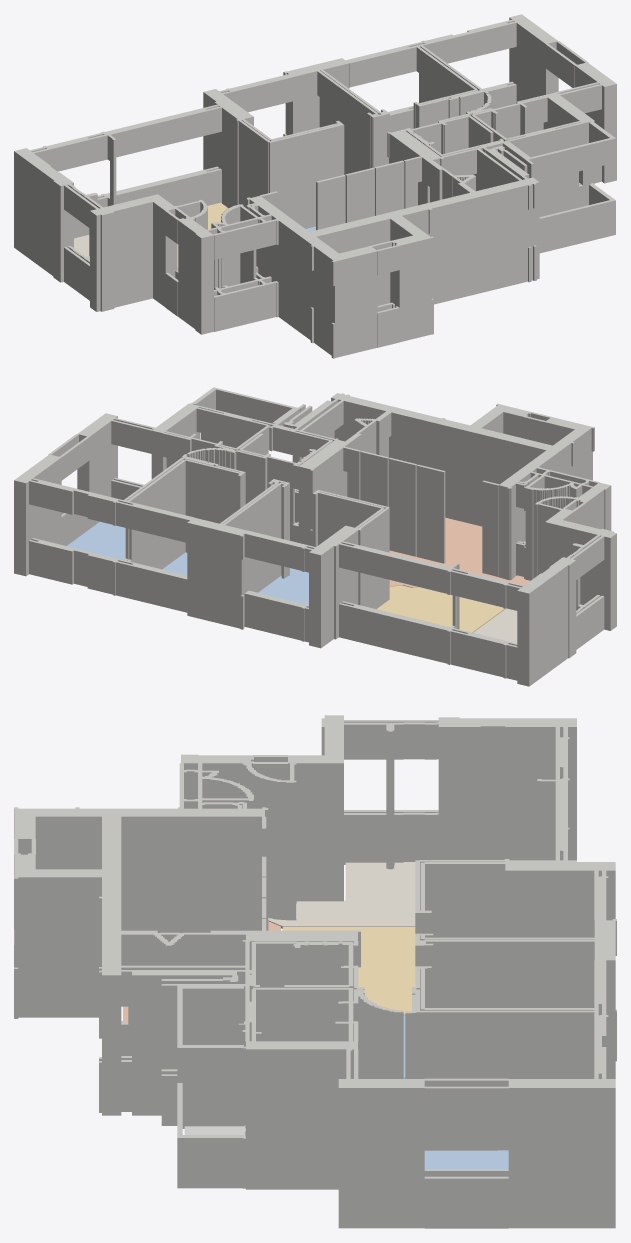
The picture shows the model from 3 angles, top to bottom: view 1: azimuth 30°, elevation 25°; view 2: azimuth 150°, elevation 25°; view 3: azimuth 270°, elevation 25°; orthographic projection. The views are drawn at different scales.
Parts seen in each view (by area): view 1: walls; view 2: walls, room:living:2, room:kitchen:9, room:bedroom:4, room:bedroom:1, room:other:0; view 3: walls, room:other:0, room:living:2, room:bedroom:4.
Boxes of the visible parts, x1,y1,x2,y2 form: walls: (14, 14, 616, 358); walls: (14, 387, 616, 686); room:living:2: (377, 585, 505, 632); room:kitchen:9: (389, 517, 530, 587); room:bedroom:4: (67, 521, 125, 559); room:bedroom:1: (258, 568, 308, 604); room:other:0: (473, 608, 517, 643); walls: (14, 715, 616, 1228); room:other:0: (268, 862, 415, 928); room:living:2: (282, 927, 415, 1015); room:bedroom:4: (424, 1150, 508, 1168).
Bounding box in the file's own units: 15.97 × 2.8 × 10.9.
